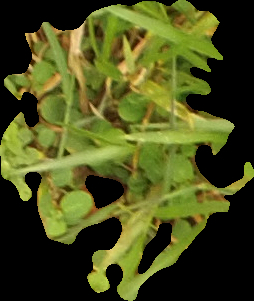grass: (1, 1, 252, 300)
